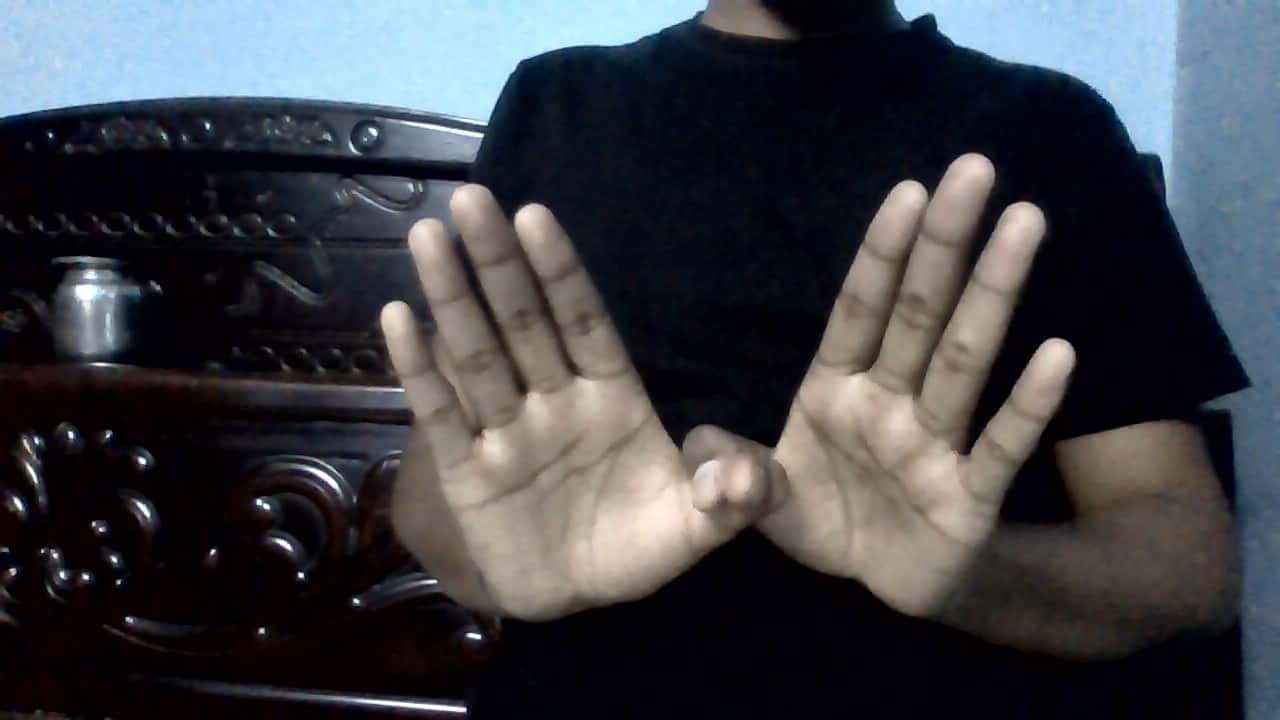hand: (732, 153, 1080, 621), (380, 178, 729, 622)
